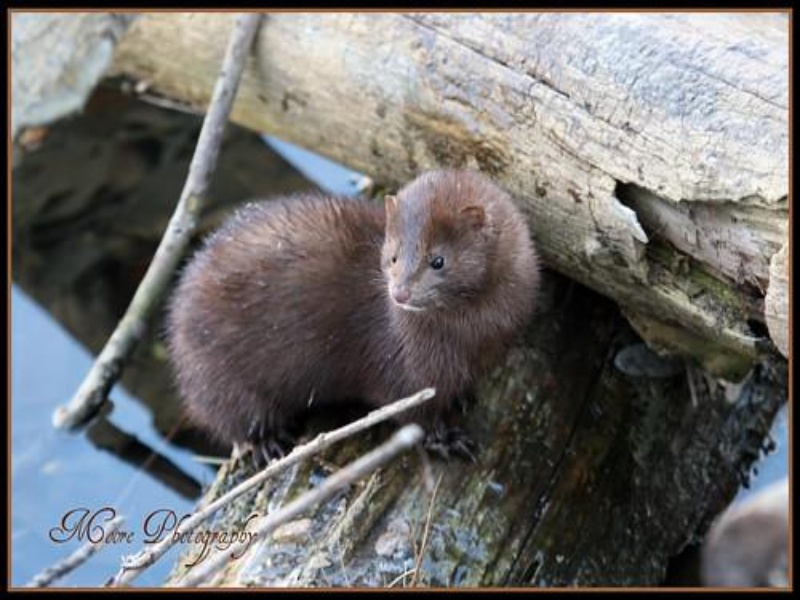minkish: (162, 170, 547, 454)
